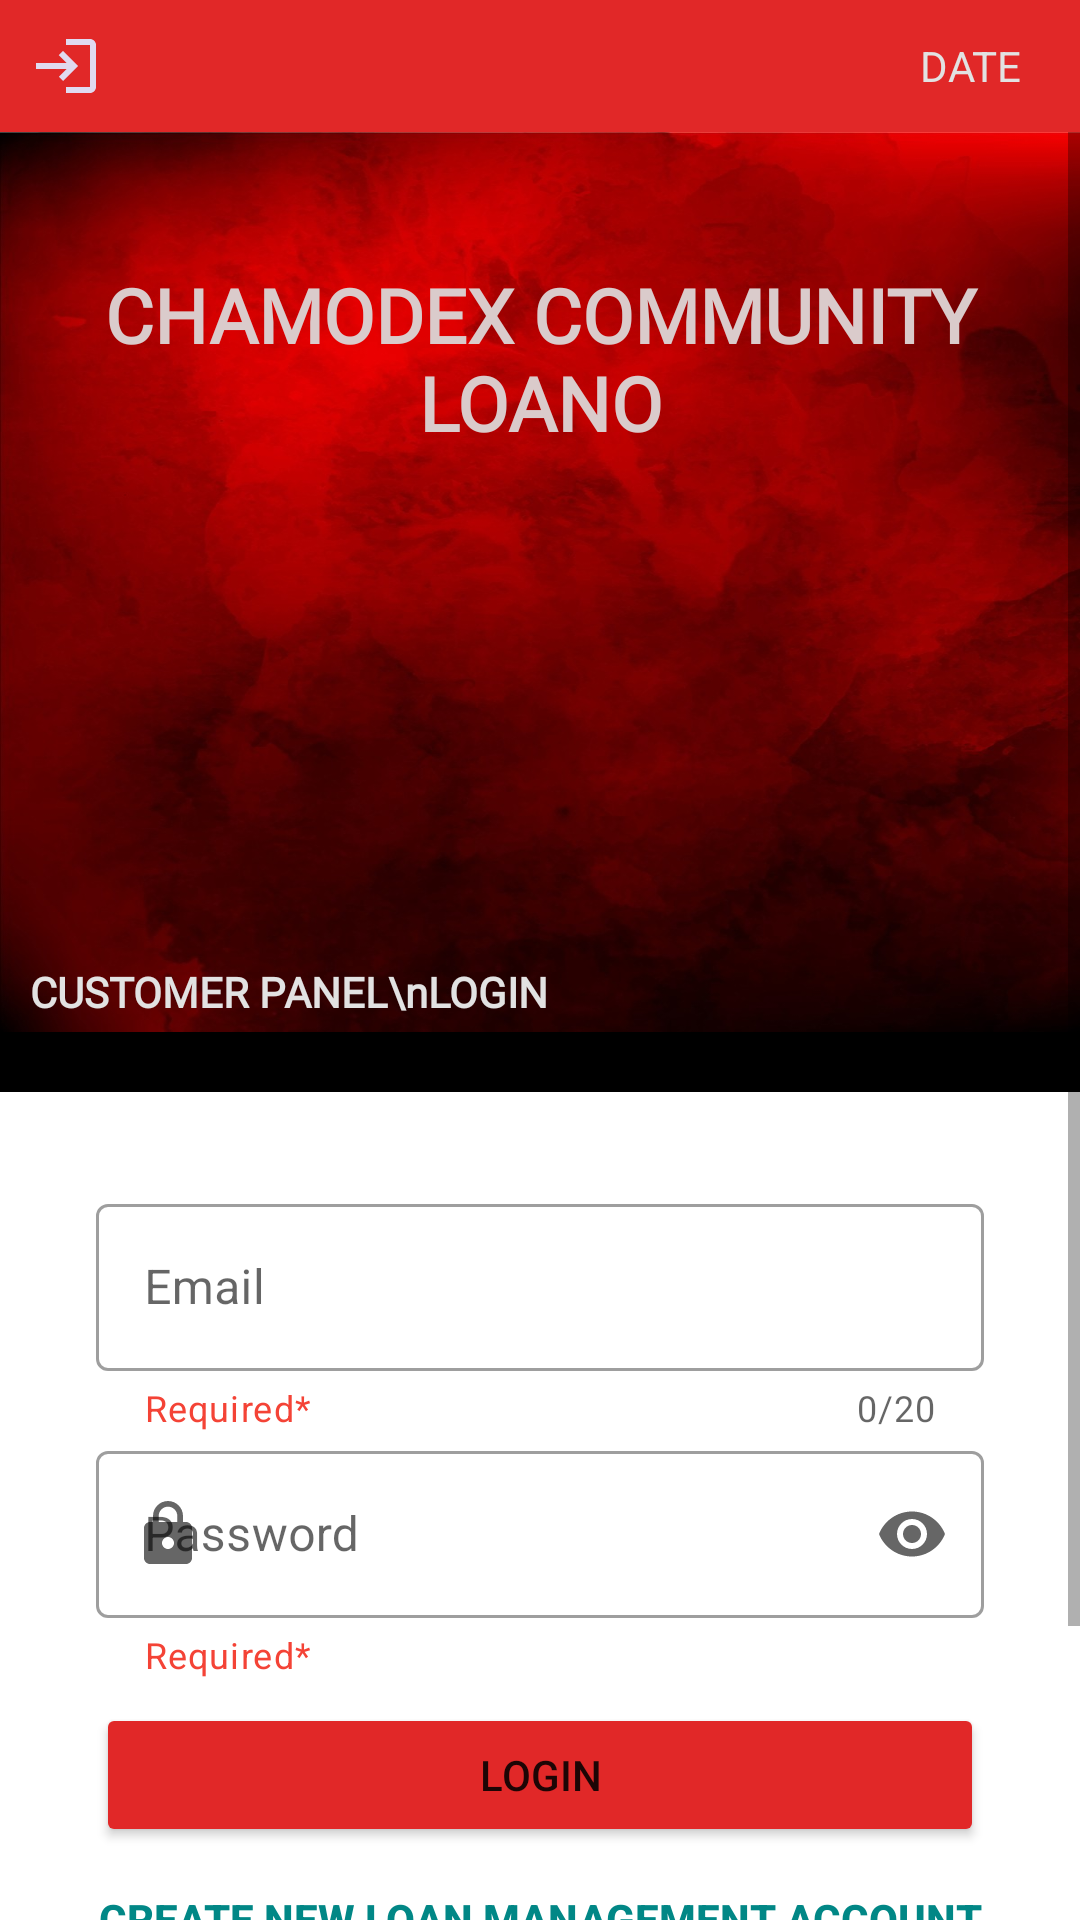

Icons on this 1080*1920 Android screen, each with its box as (x1, y1, x2, y2):
login: (36, 39, 96, 93)
